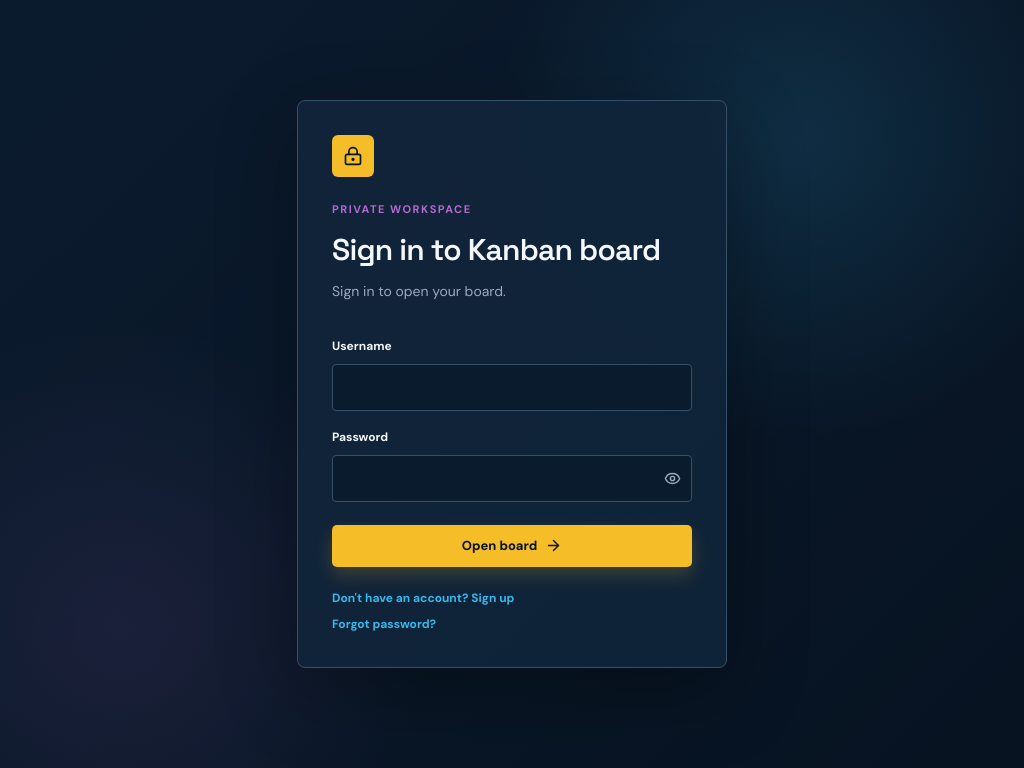
Scenario: SignIn › shows a server error when sign up fails, e.g. a duplicate username
Step 1. Click the button "Don't have an account? Sign up" → (512, 598), box [332,589,692,607]
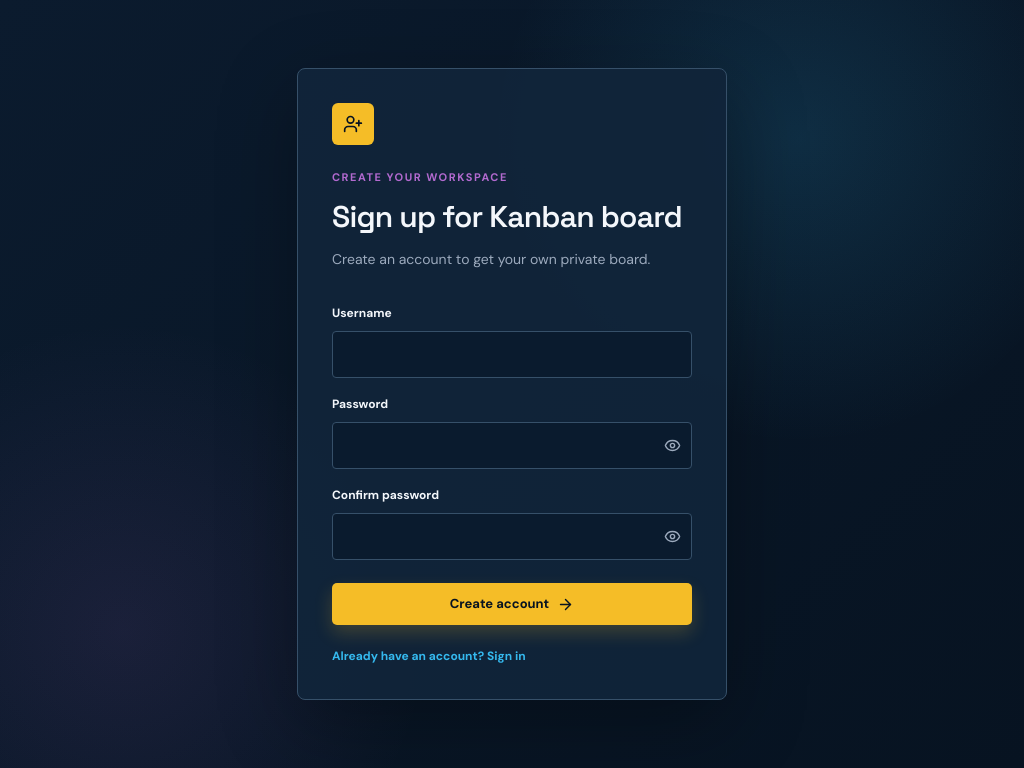
Step 2. Type "taken" into the field labelled "Username" → (512, 355), box [332,331,692,378]
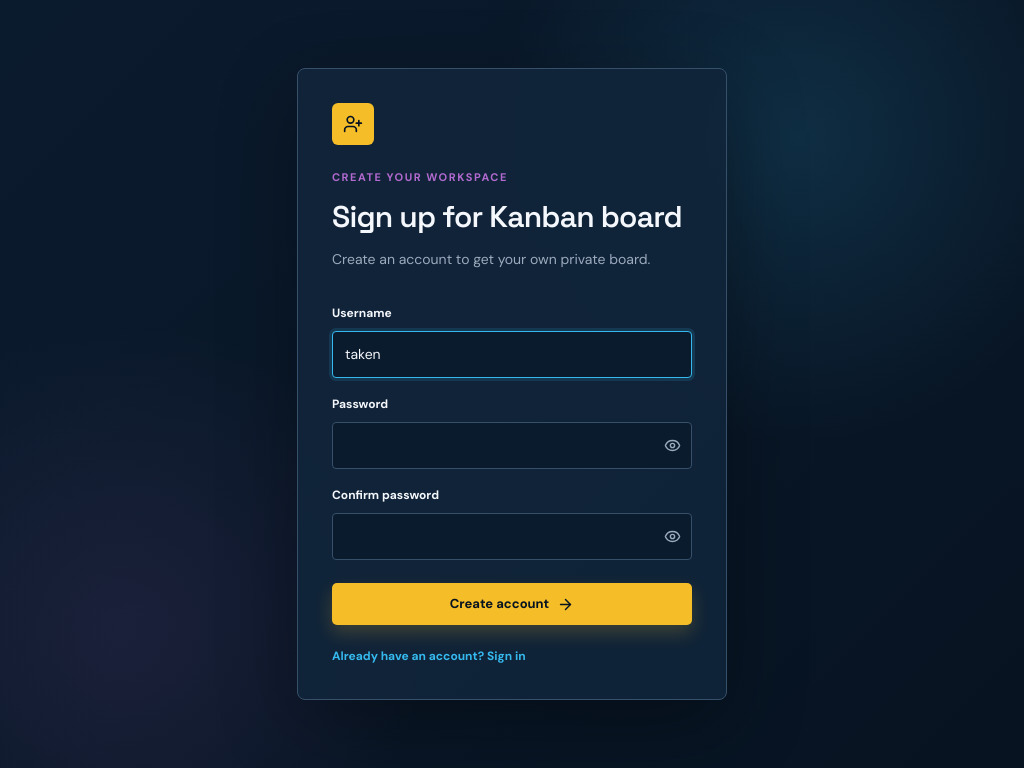
Step 3. Type "password123" into the password field labelled "Password" → (512, 446), box [332,422,692,469]
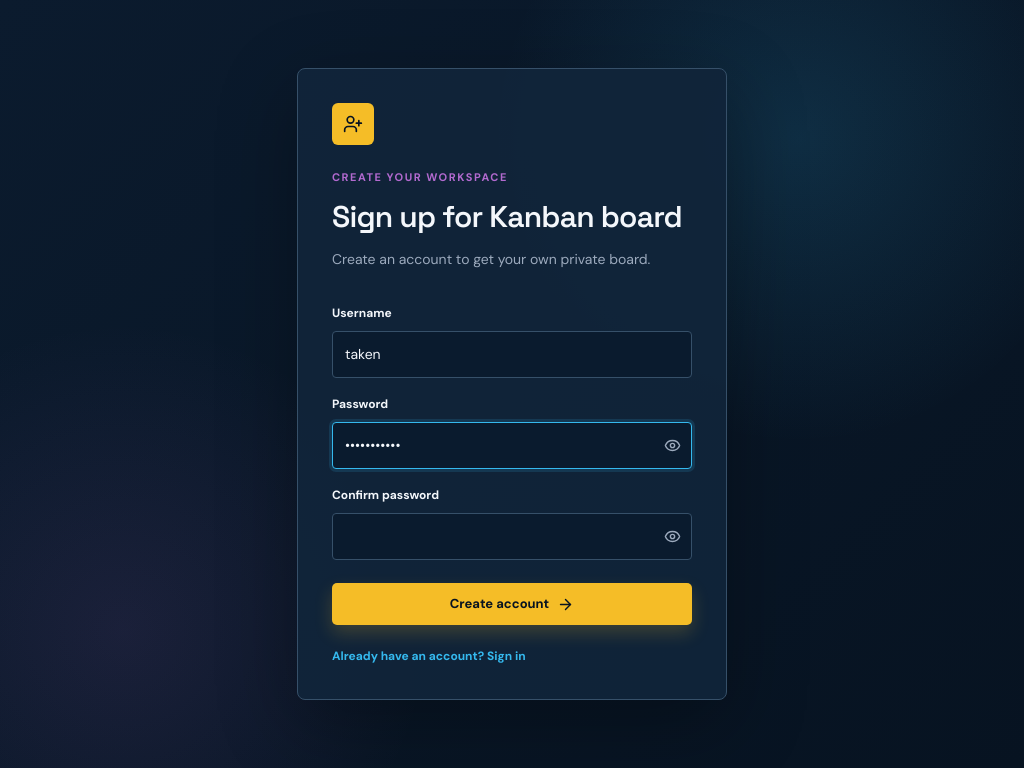
Step 4. Type "password123" into the password field labelled "Confirm password" → (512, 537), box [332,513,692,560]
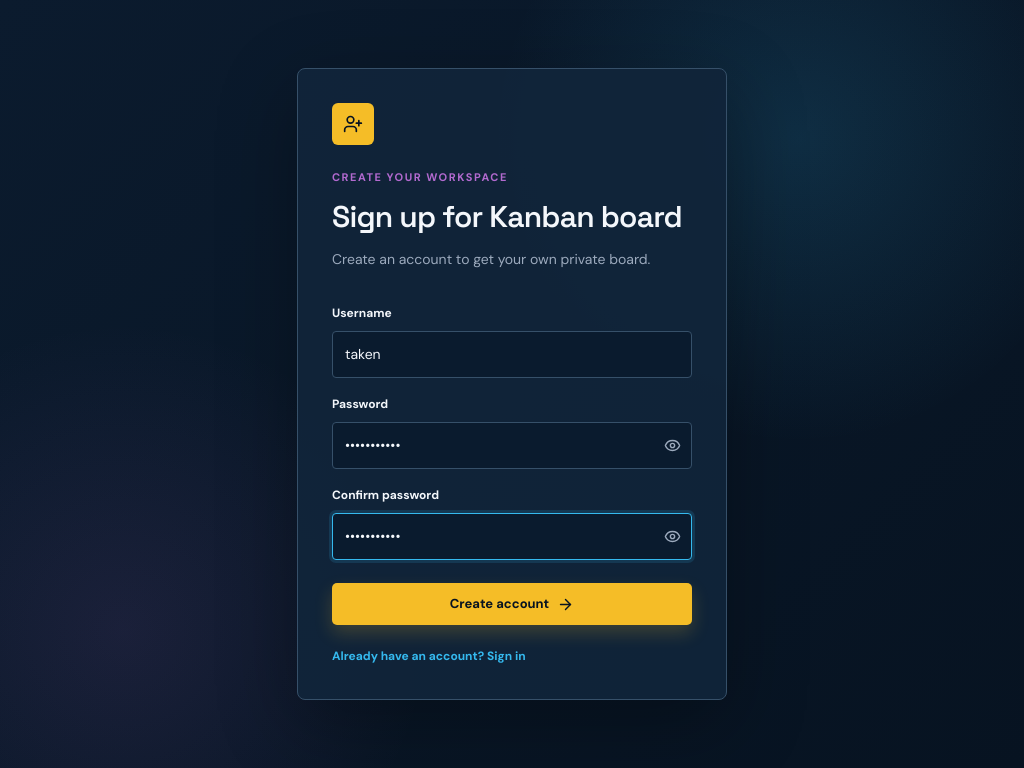
Step 5. Click the button "Create account" → (512, 604), box [332,583,692,625]
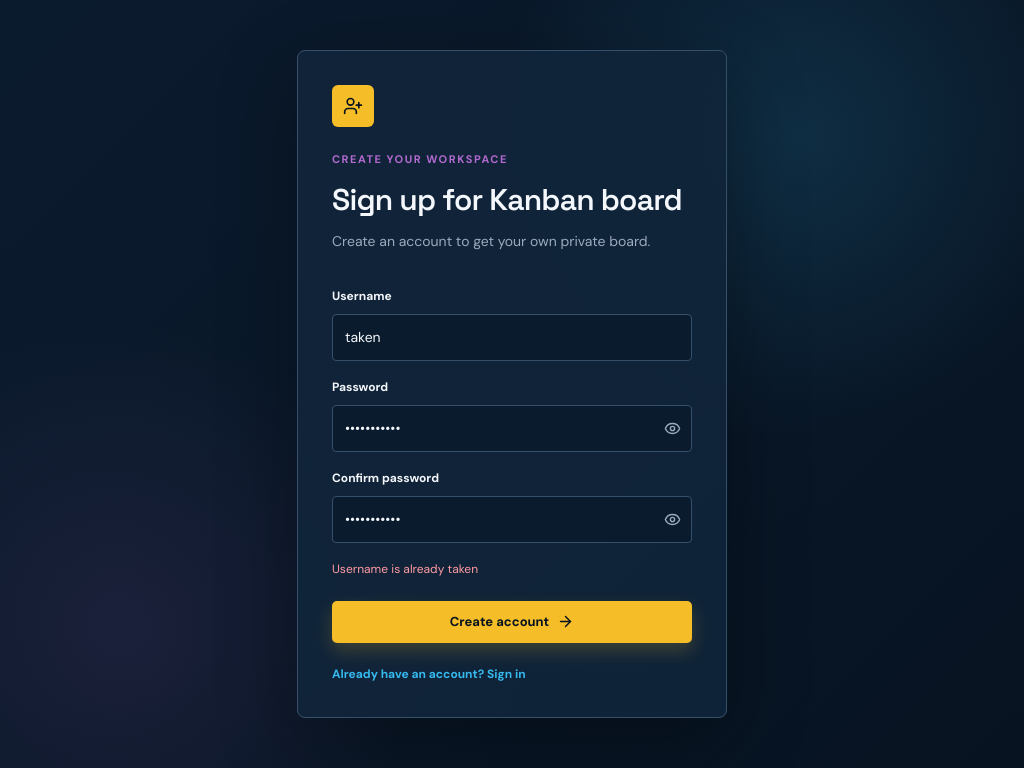
Expected: the message reads "Username is already taken", [332,561,478,577]
